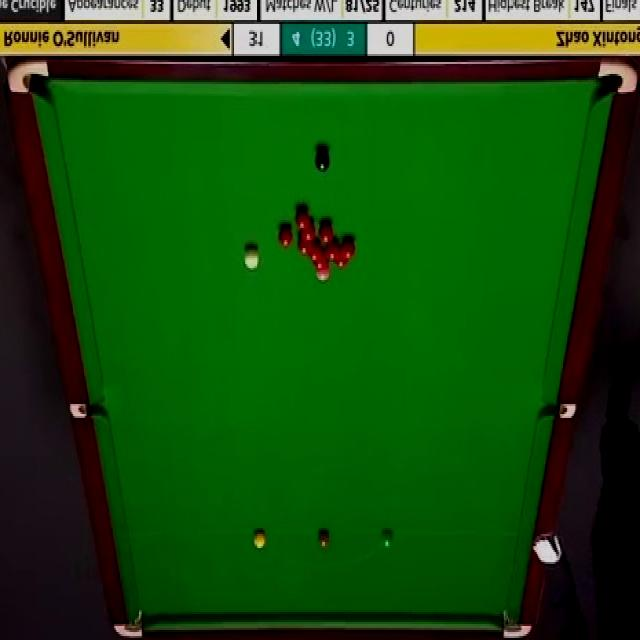pocket: (596, 57, 638, 97), (6, 61, 49, 97), (109, 606, 145, 640), (498, 608, 533, 640), (537, 405, 578, 420), (67, 405, 105, 420)
